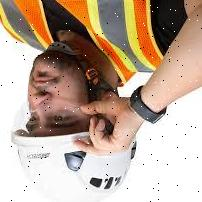Hard_hat: (9, 125, 143, 202)
Vest: (0, 0, 202, 136), (0, 0, 170, 91)
Visor: (7, 96, 94, 131)
